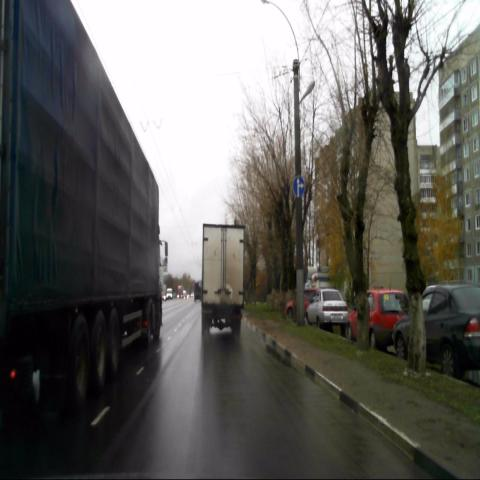4_1_4: (292, 175, 305, 199)
